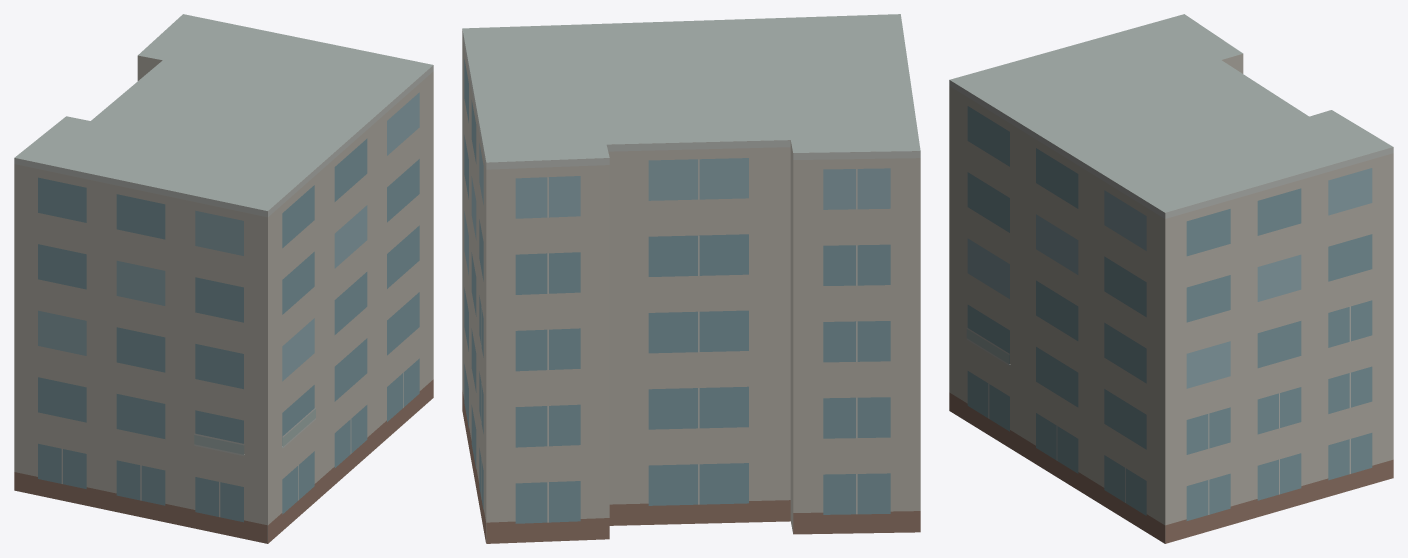
The model's file is survey-upis-32883498.glb.
The picture shows the model from 3 angles, left to right: view 1: azimuth 30°, elevation 25°; view 2: azimuth 150°, elevation 25°; view 3: azimuth 270°, elevation 25°; orthographic projection. The views are drawn at different scales.
Visible parts, largest first — view 1: survey-upis-32883498.tmp; view 2: survey-upis-32883498.tmp; view 3: survey-upis-32883498.tmp.
Part boxes in pixels (box(x1,y1,x2,y2)): survey-upis-32883498.tmp: box(14, 14, 433, 543); survey-upis-32883498.tmp: box(462, 14, 920, 543); survey-upis-32883498.tmp: box(949, 14, 1393, 543).
Bounding box in the file's own units: 16.88 × 13.1 × 15.94.
